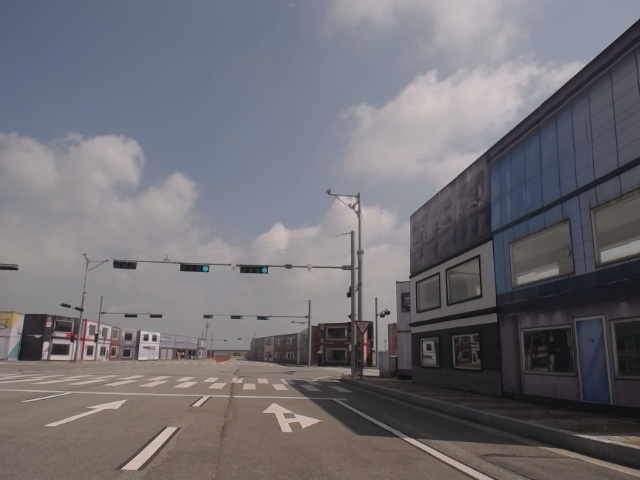straight_green_4: (240, 264, 269, 274), (181, 264, 210, 271)
